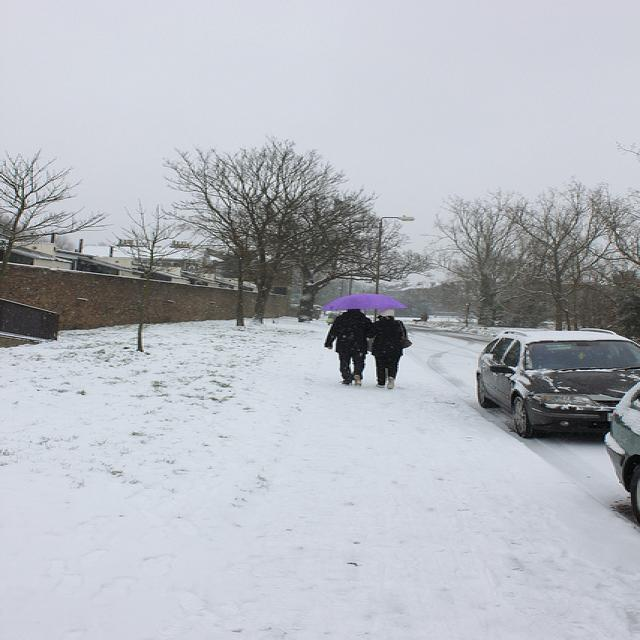Vehicle: (476, 327, 640, 432), (600, 379, 640, 511)
